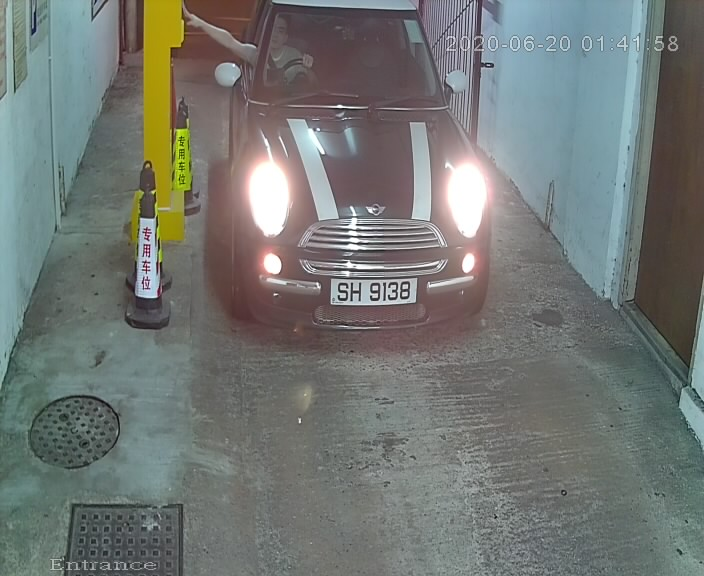privatecar: (225, 3, 516, 337)
